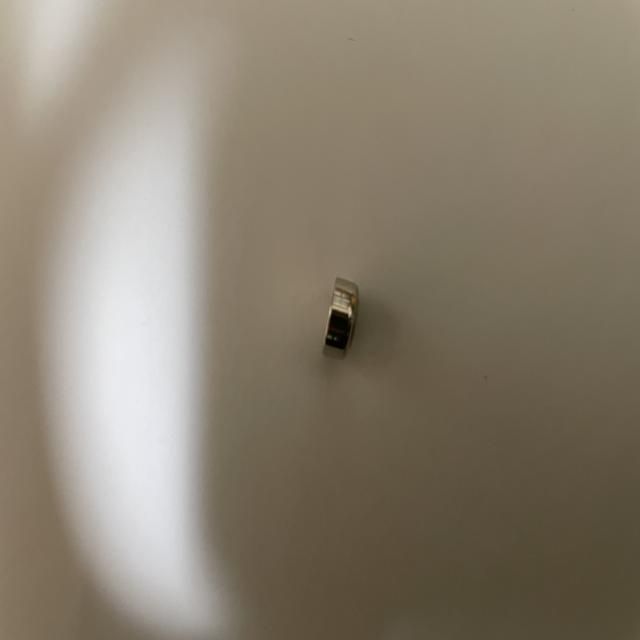COIN: (320, 274, 362, 366)
